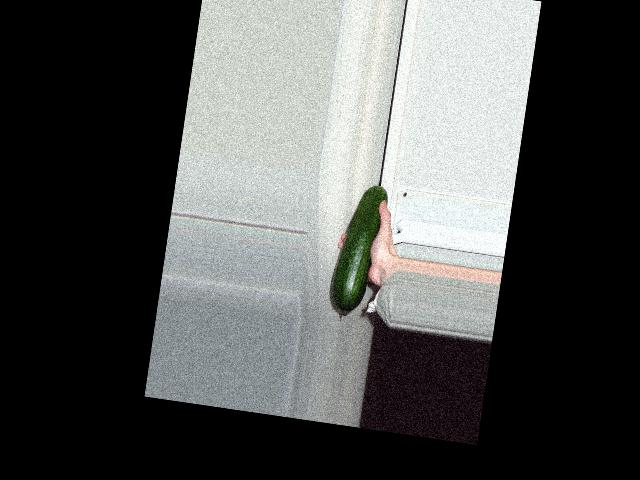cucumber: (326, 180, 389, 319)
